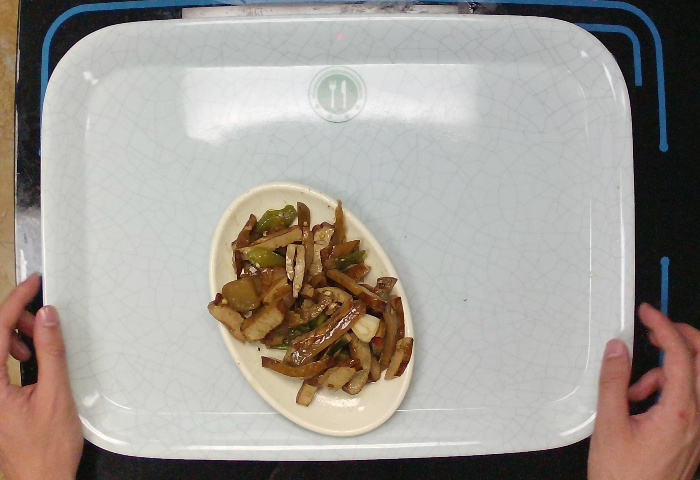JYsf-Tuo_Yuan_Wan: (206, 179, 416, 438)
